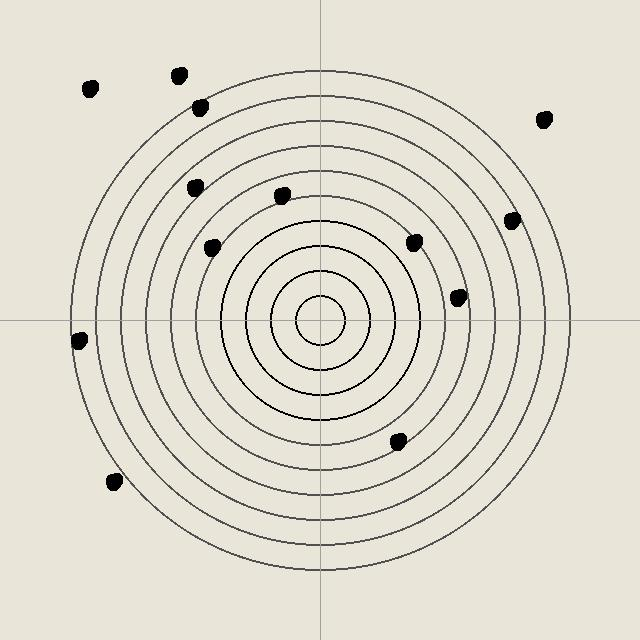random_scatter: (168, 65, 188, 85), (271, 185, 291, 205), (201, 237, 221, 257), (403, 232, 423, 252), (501, 210, 521, 230), (387, 431, 407, 451), (189, 97, 209, 117), (79, 78, 99, 98), (184, 177, 204, 197), (68, 330, 88, 350), (103, 471, 123, 491), (533, 109, 553, 129), (447, 287, 467, 307)
